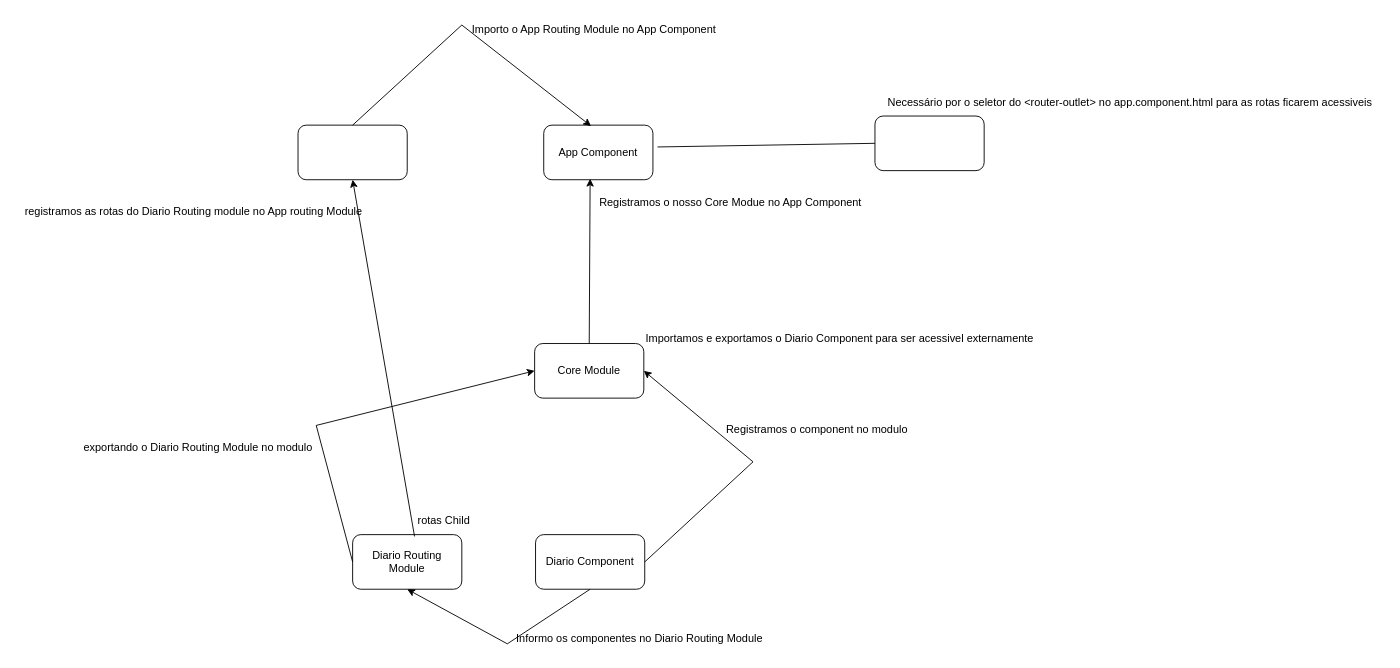
This 1400x668 diagram has some shape labels left out. Here are the shapes that lost their labels. From the top down, the centre of each, then its label:
[352,152]: App Routing Module
[929,143]: app.component.html
